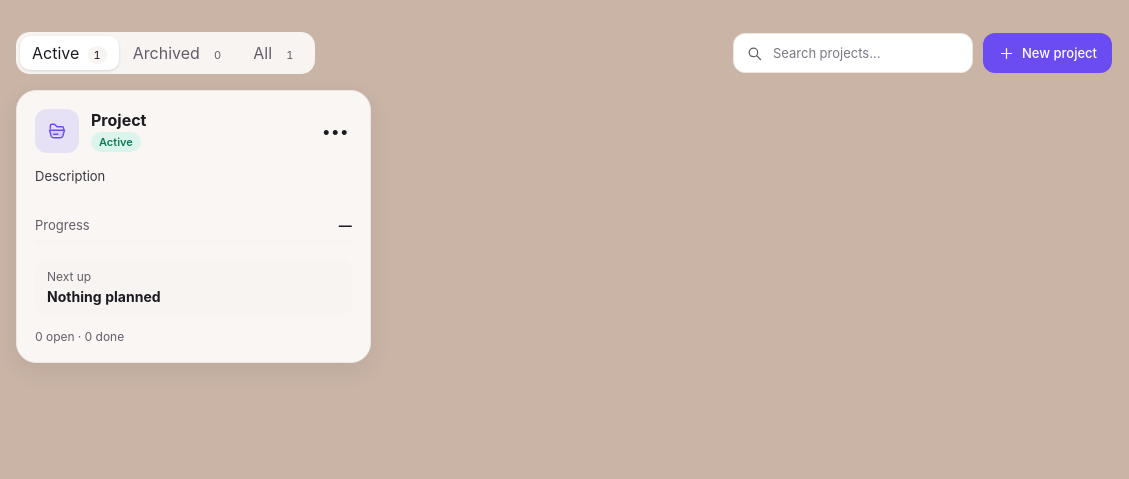
Test: project detail actions › confirms and deletes the selected project
Click the button "Project active" at (197, 131), box [91,110,304,152]
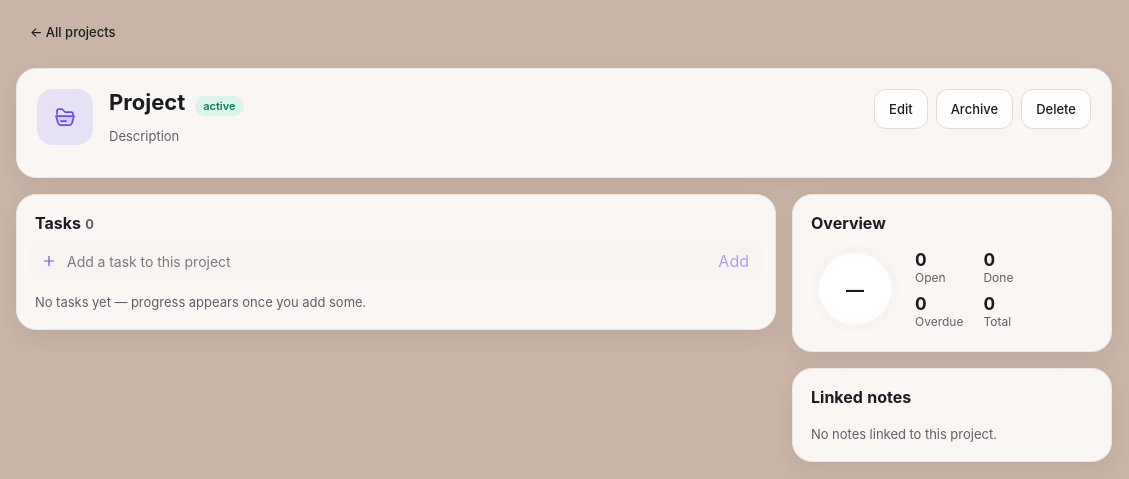
Click the button "Delete" at (1056, 109), box [1021,89,1091,129]
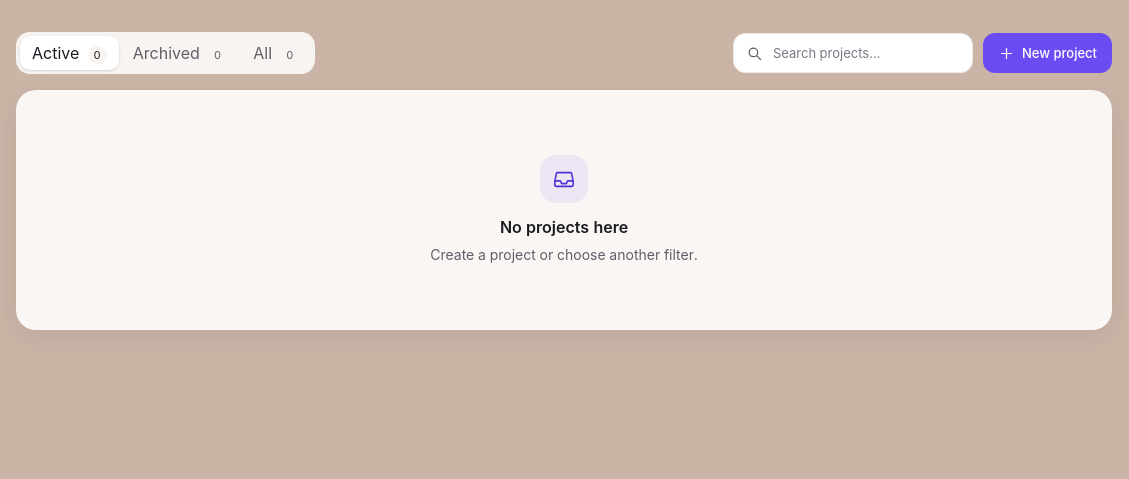
expect the text "No projects here" is shown: met, box [500,215,628,239]
